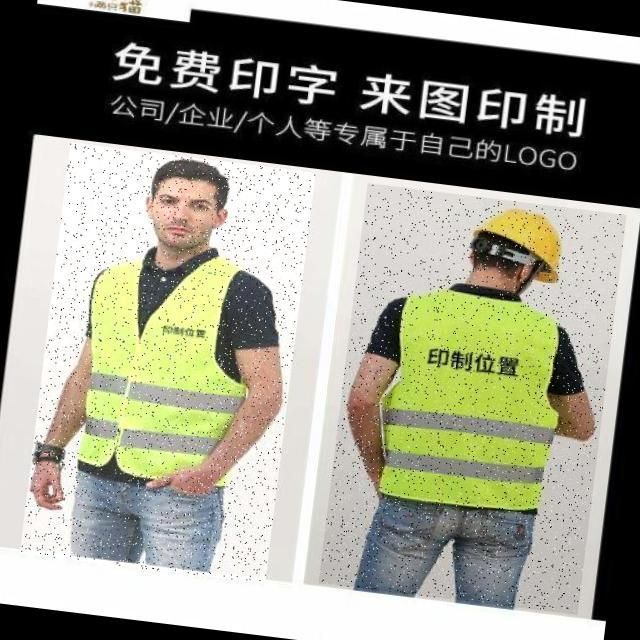Helmet: (471, 203, 568, 270)
Person: (343, 158, 599, 612), (33, 139, 291, 588)
Safety Vest: (65, 236, 265, 497), (366, 281, 570, 522)
bare-arms: (138, 459, 222, 507), (35, 453, 69, 520)
no-helmet: (153, 159, 228, 191)
